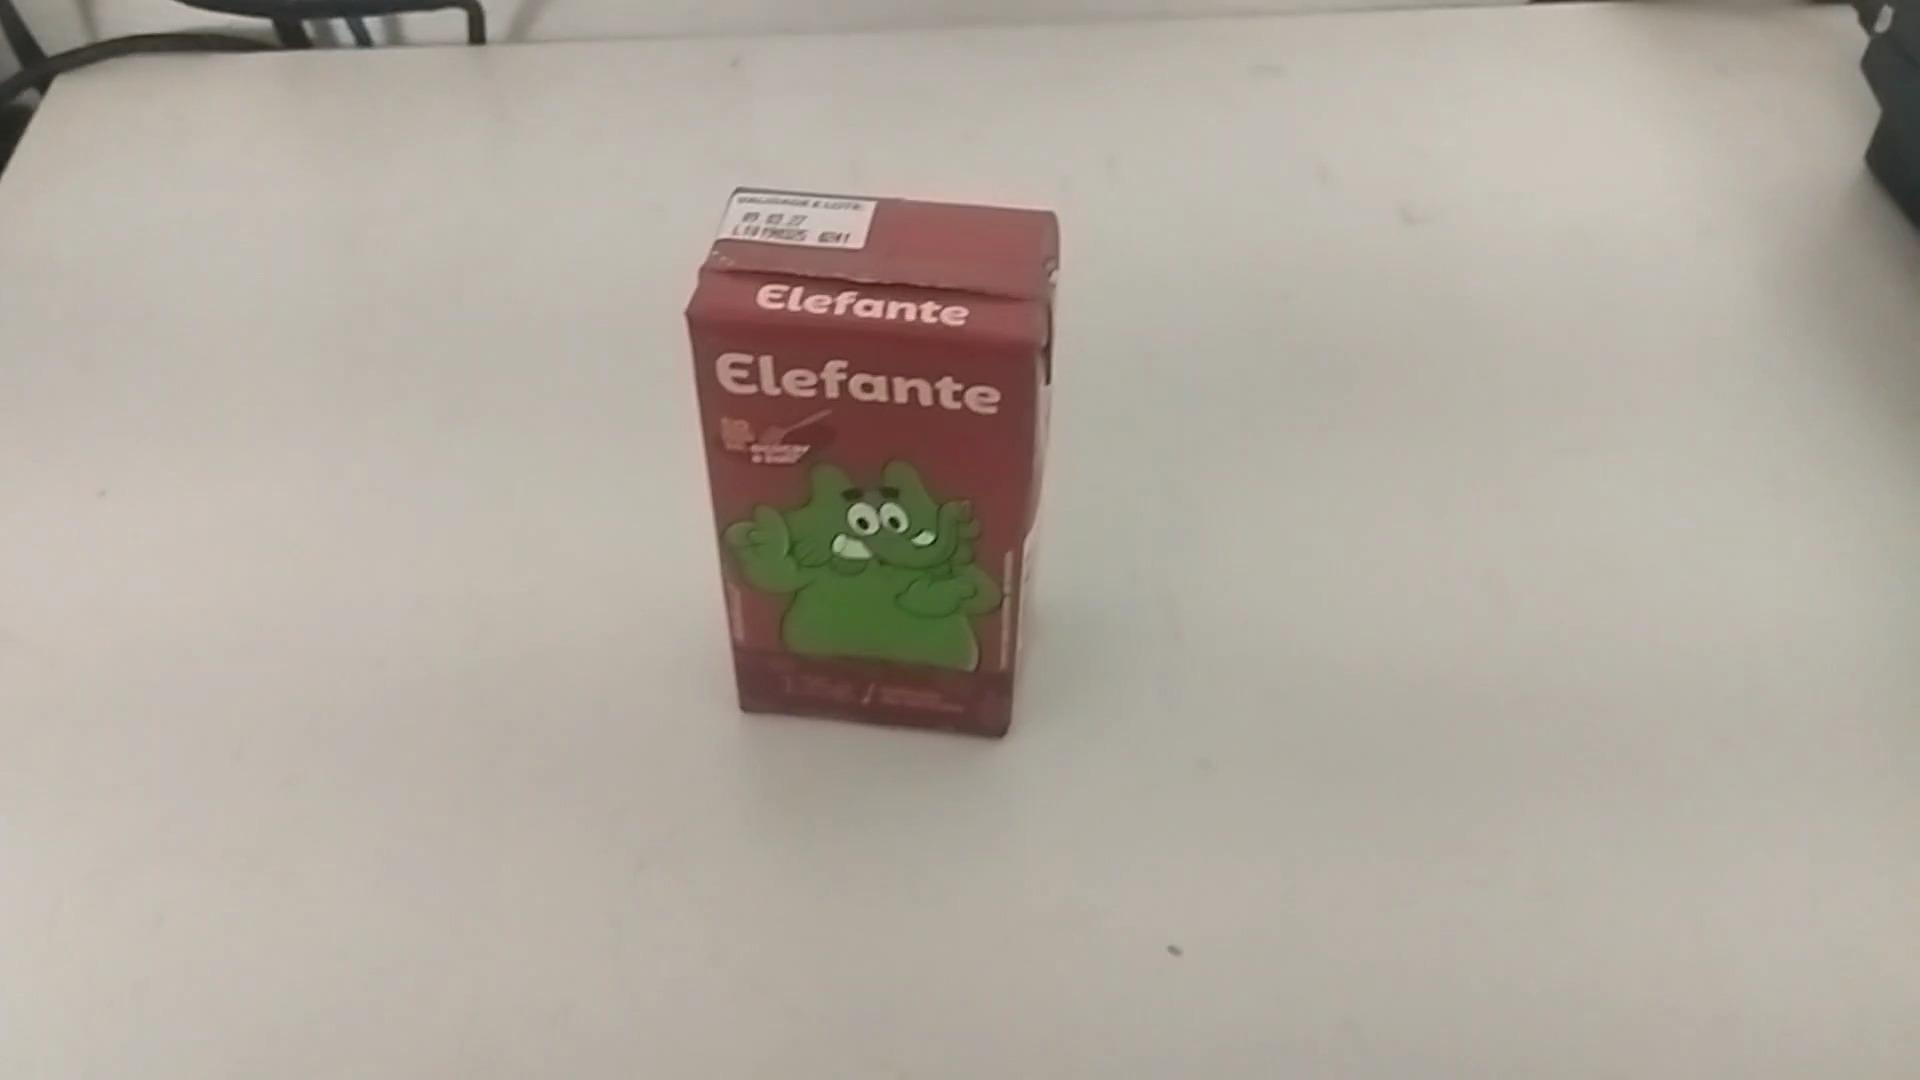tomate: (676, 179, 1077, 749)
